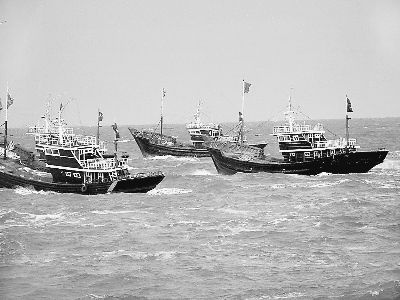otherboat: (217, 111, 393, 176), (1, 131, 170, 194), (127, 102, 246, 161)
